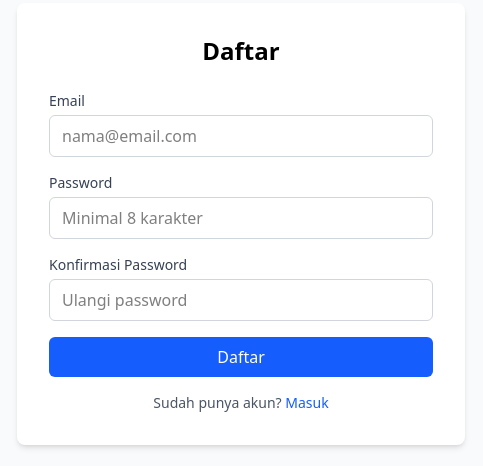
Test case: RegisterForm › shows verification step after successful registration
Type "new@test.com" into the field labelled "Email" at (241, 136), box [49, 115, 433, 157]
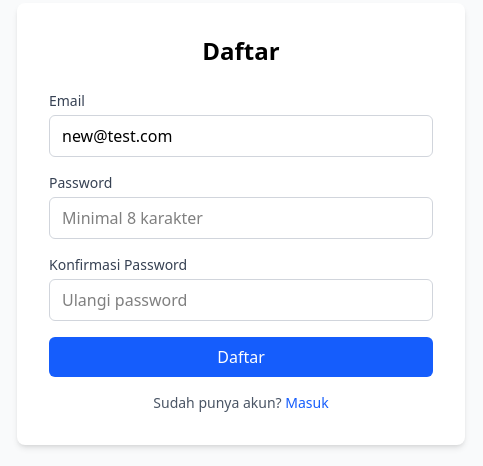
Type "password123" into the password field labelled "Password" at (241, 218), box [49, 197, 433, 239]
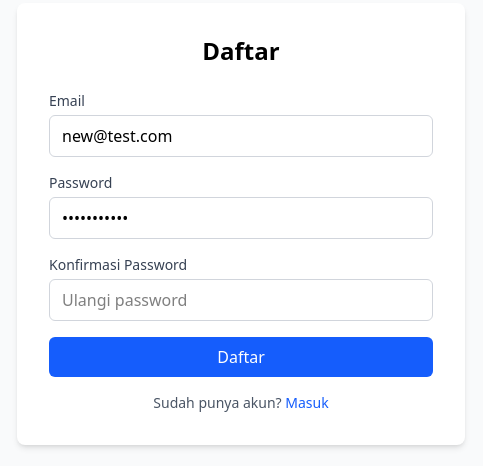
Type "password123" into the password field labelled "Konfirmasi Password" at (241, 300), box [49, 279, 433, 321]
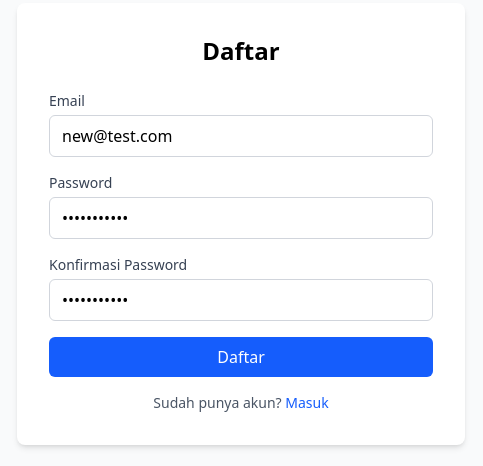
Click the button "Daftar" at (241, 357), box [49, 337, 433, 377]
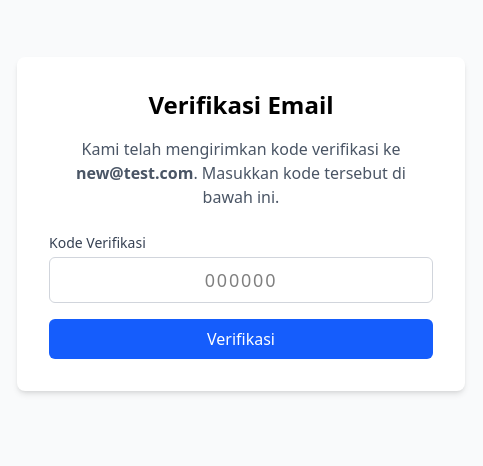
Check: the heading "Verifikasi Email" is shown, box [148, 88, 334, 121]
Check: the text "new@test.com" is shown, box [76, 162, 193, 184]
Check: the field labelled "Kode Verifikasi" is shown, box [49, 257, 433, 303]
